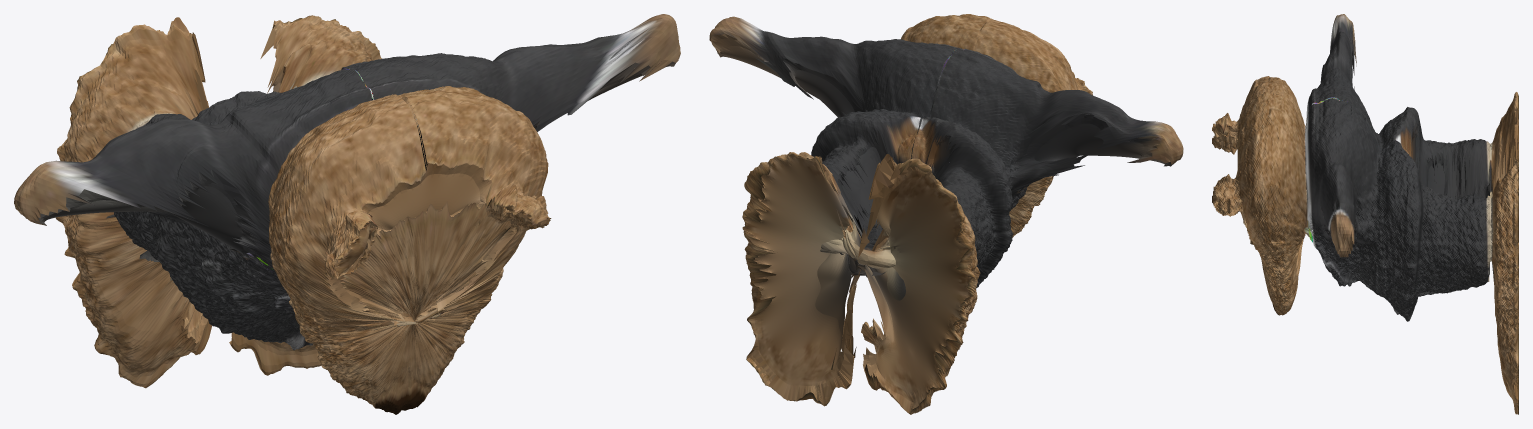
The model's file is mesh_inpaint.glb.
3 views of the same model, side by side, from view 1: azimuth 30°, elevation 25°; view 2: azimuth 150°, elevation 25°; view 3: azimuth 270°, elevation 25° (orthographic). The views are drawn at different scales.
Parts seen in each view (by area): view 1: ipn, fill; view 2: ipn, fill; view 3: ipn, fill.
Boxes of the visible parts, x1=… form: ipn: x1=14, y1=14, x2=680, y2=414; fill: x1=35, y1=17, x2=675, y2=344; ipn: x1=709, y1=14, x2=1183, y2=414; fill: x1=710, y1=32, x2=1173, y2=413; ipn: x1=1212, y1=14, x2=1518, y2=414; fill: x1=1212, y1=23, x2=1518, y2=333.
Size of the model in its own units: 1.8 by 1.11 by 1.06.
2 materials, 1 textured.
